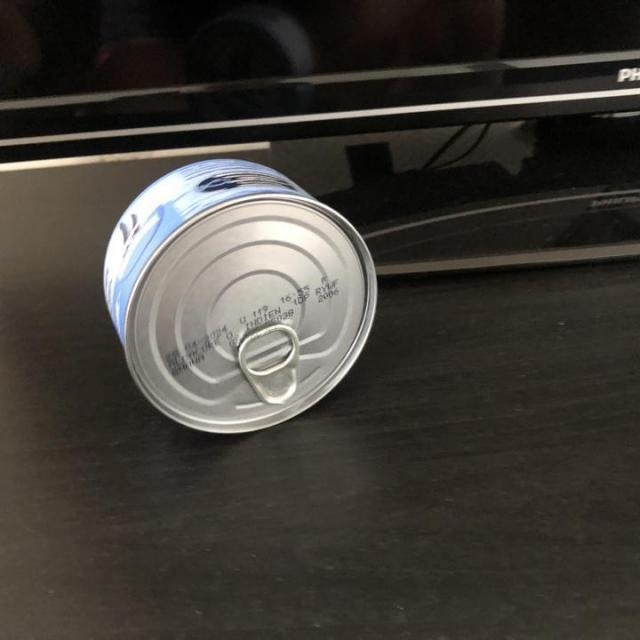metal-can: (98, 155, 382, 442)
